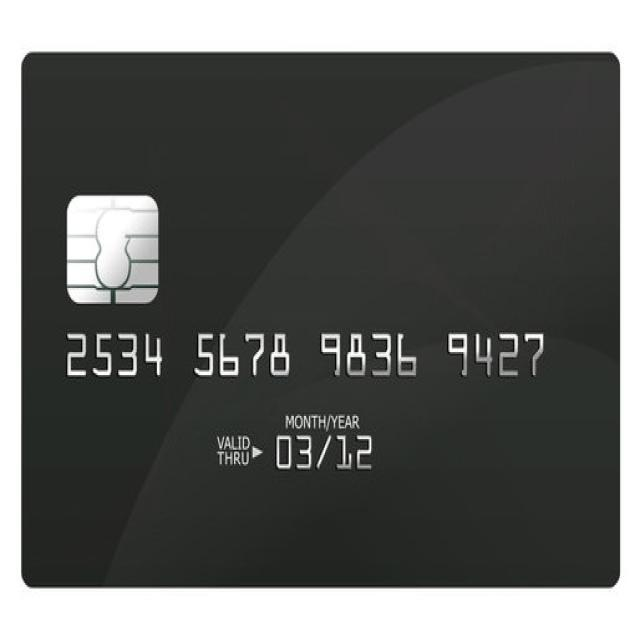payment_card: (20, 51, 622, 587)
